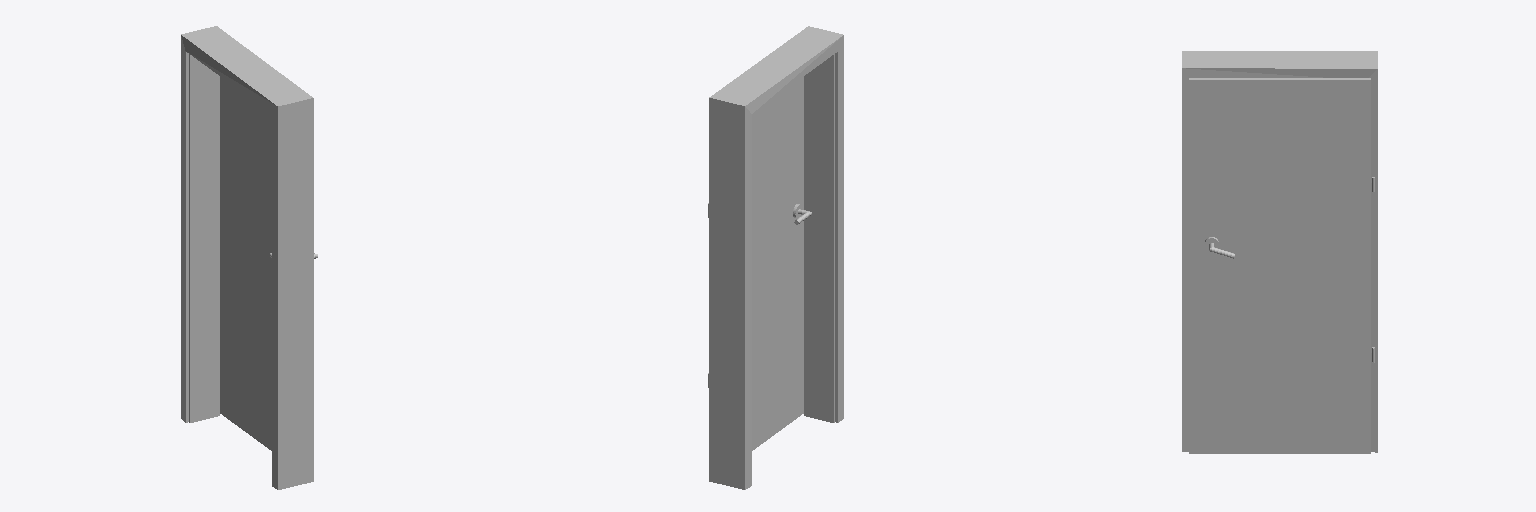
The model's file is door80.obj.
3 views of the same model, side by side, from view 1: azimuth 30°, elevation 25°; view 2: azimuth 150°, elevation 25°; view 3: azimuth 270°, elevation 25° (orthographic).
Parts seen in each view (by area): view 1: Cylinder.005, Cylinder.001; view 2: Cylinder.005, Cylinder.001; view 3: Cylinder.001, Cylinder.005.
Part boxes in pixels (left/top/right/bottom): Cylinder.005: left=181, top=26, right=313, bottom=489; Cylinder.001: left=220, top=77, right=271, bottom=450; Cylinder.005: left=708, top=26, right=843, bottom=489; Cylinder.001: left=708, top=77, right=803, bottom=450; Cylinder.001: left=1189, top=78, right=1374, bottom=453; Cylinder.005: left=1182, top=51, right=1377, bottom=452.
Size of the model in its own units: 0.3039 by 2.05 by 0.95.